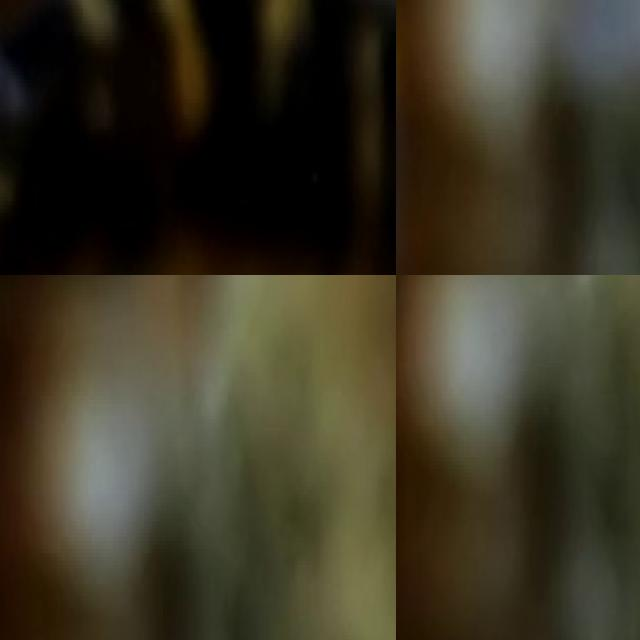fish: (0, 0, 396, 275), (543, 418, 640, 640)
